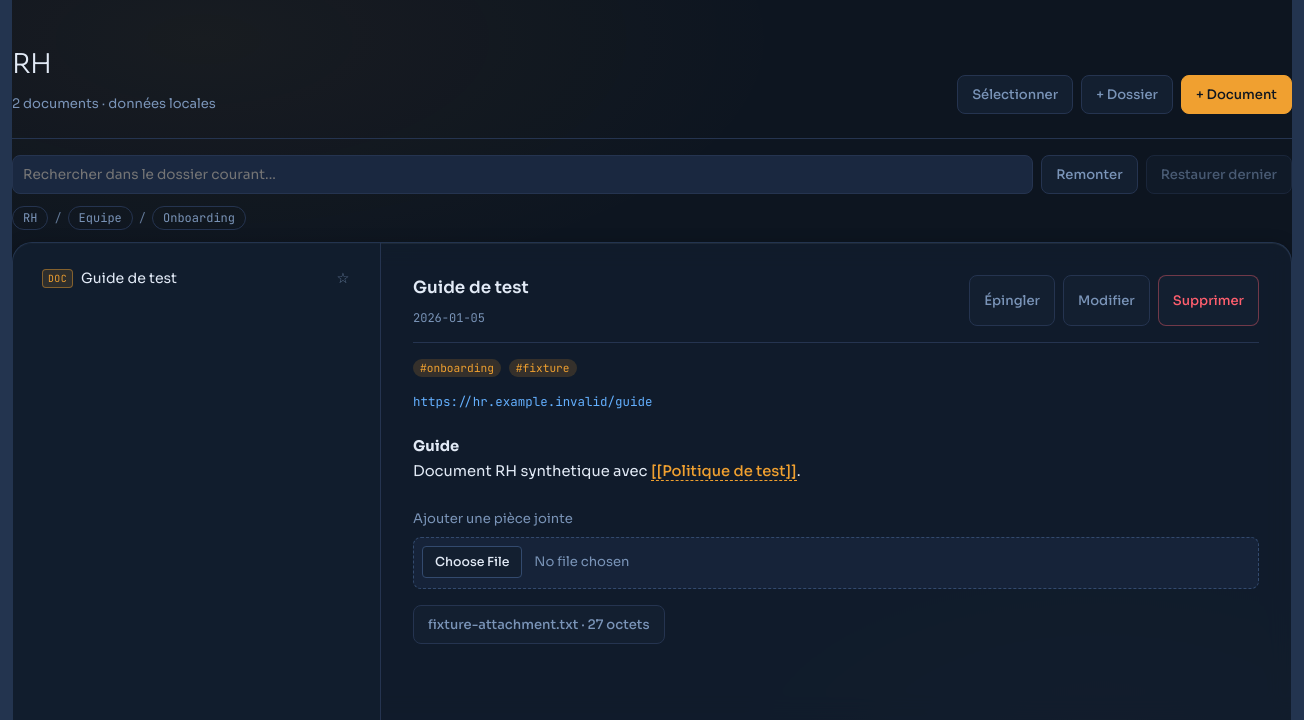
Scenario: RhComponent › resolves a case-insensitive RH wiki-link to its target document
Click the button with class "wiki-link": (724, 472) x1=651 y1=462 x2=797 y2=481
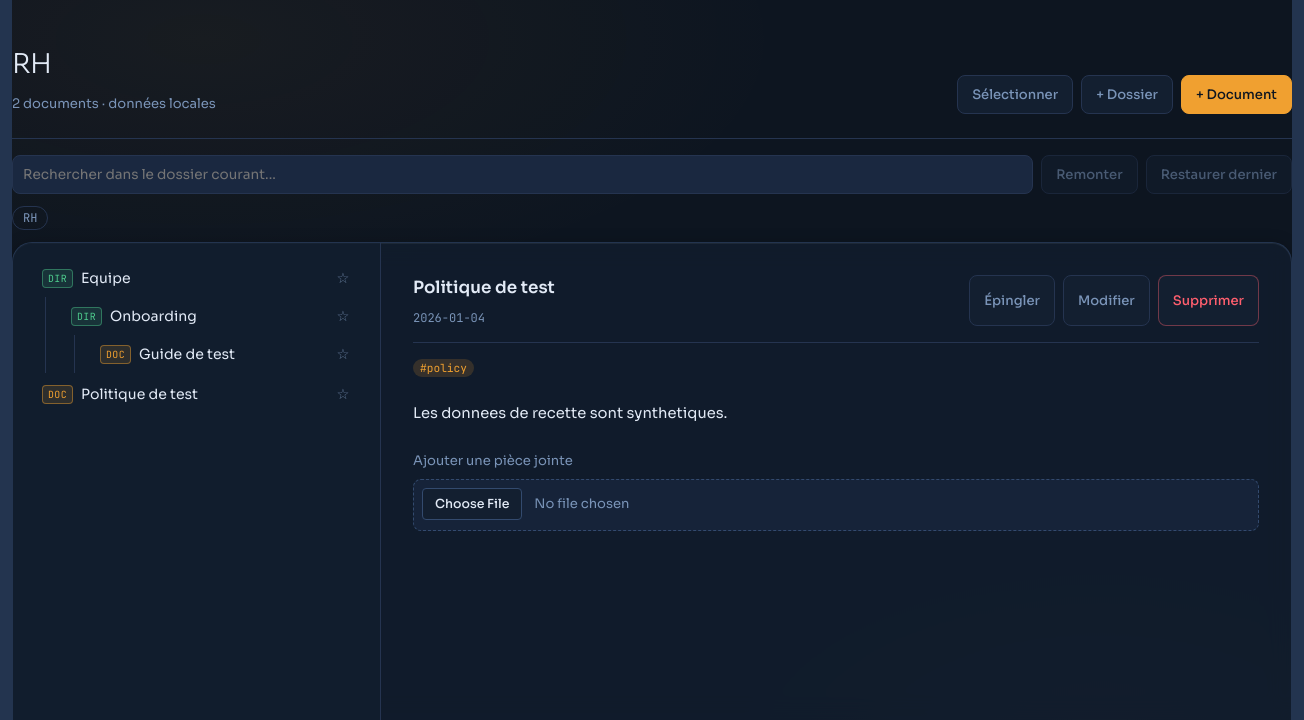
Expected: the text "Politique de test" is shown, x1=81 y1=383 x2=198 y2=406
